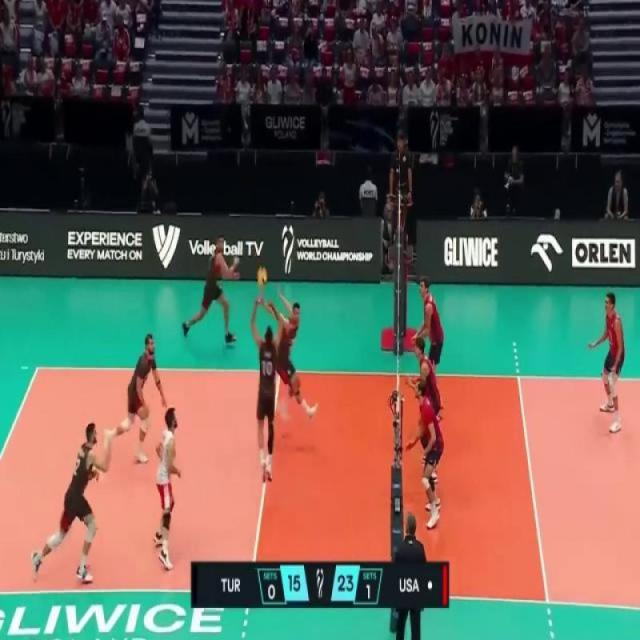volleyball: (254, 260, 270, 292)
